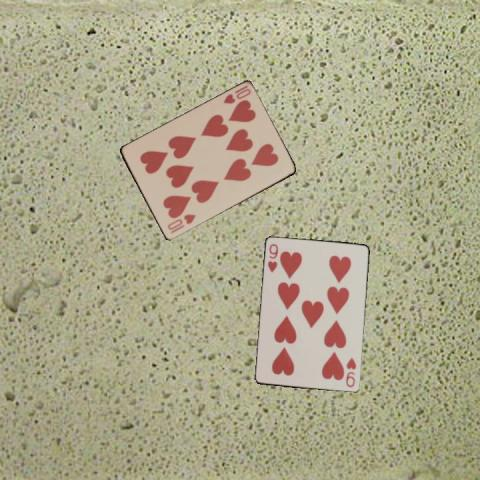10h: (165, 212, 197, 236), (221, 83, 253, 105)
9h: (343, 354, 357, 388), (265, 241, 279, 274)
